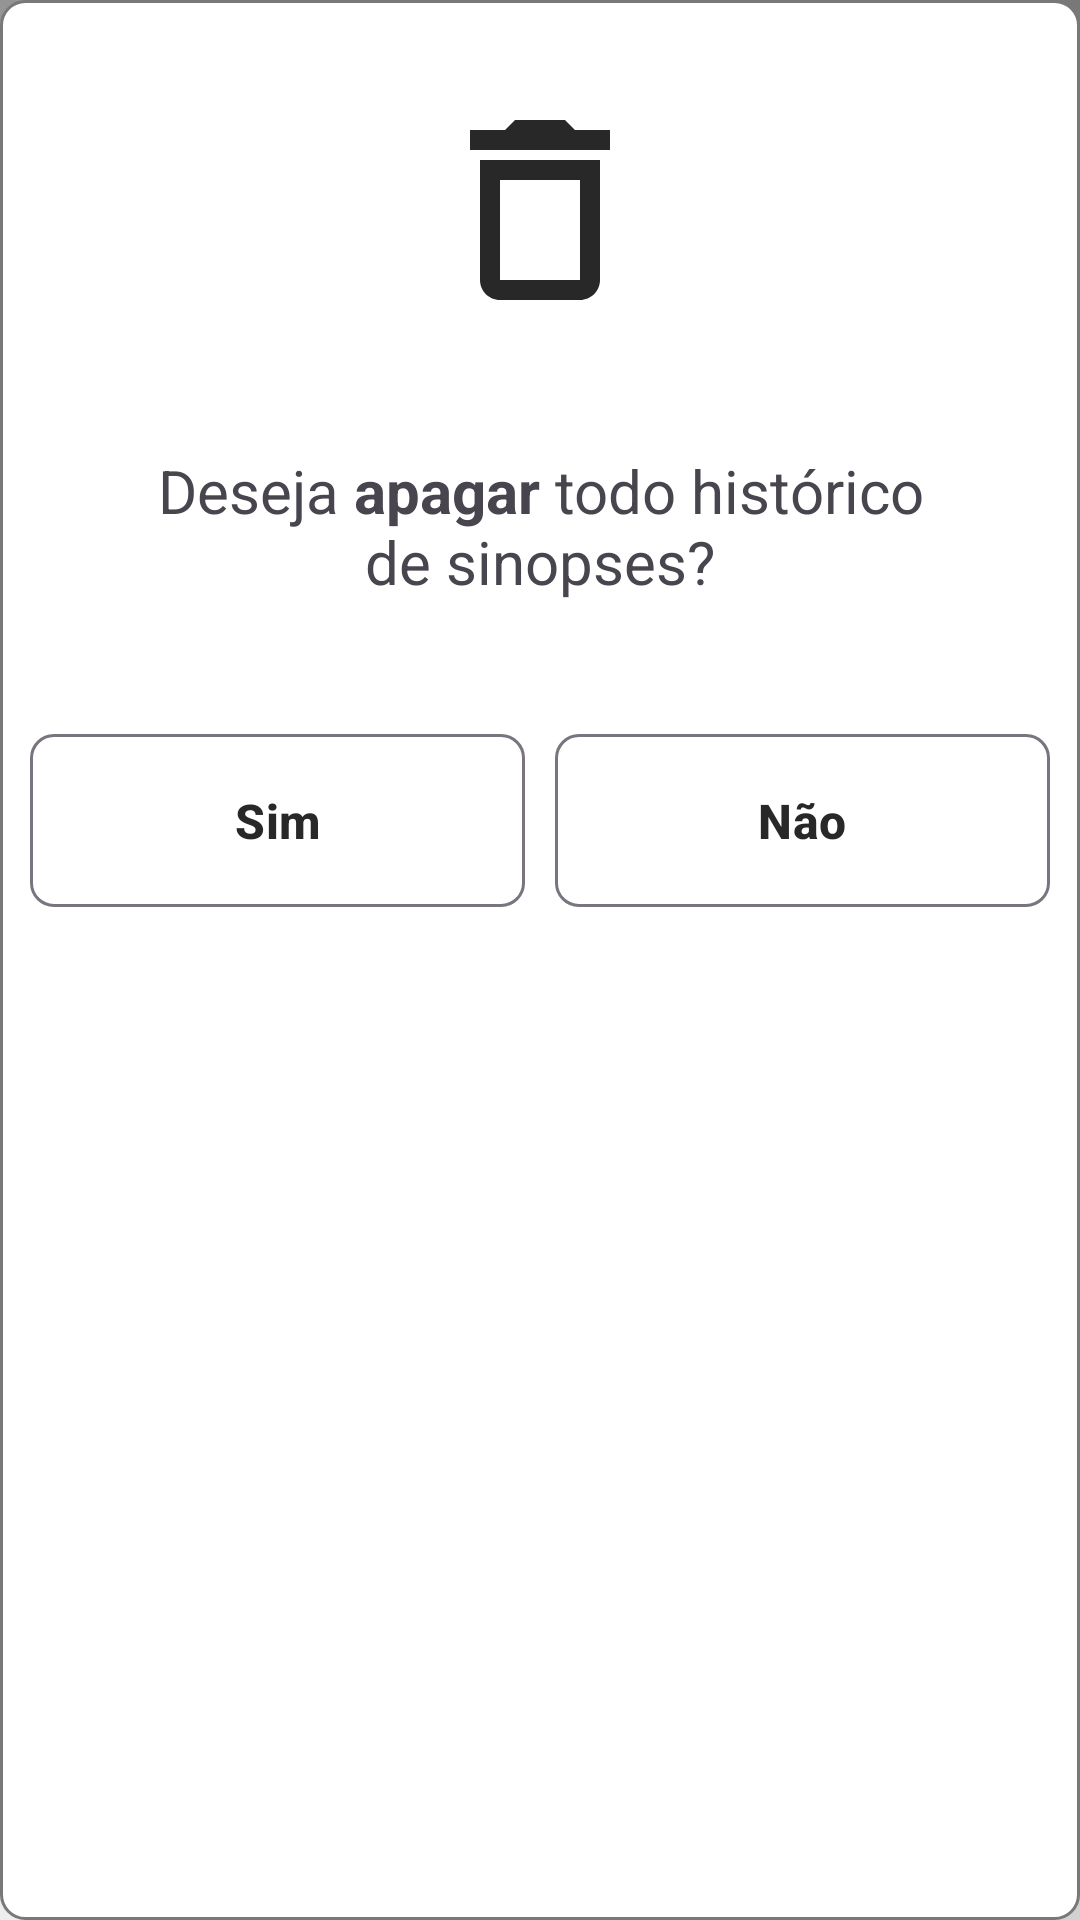

Screen size 1080×1920. Icon name, then its box in pixels as box=[x1, y1, x2, y2]:
delete all: box=[470, 120, 610, 300]
